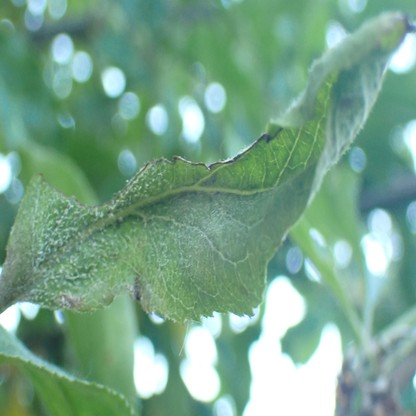powdery_mildew: (27, 168, 256, 316)
